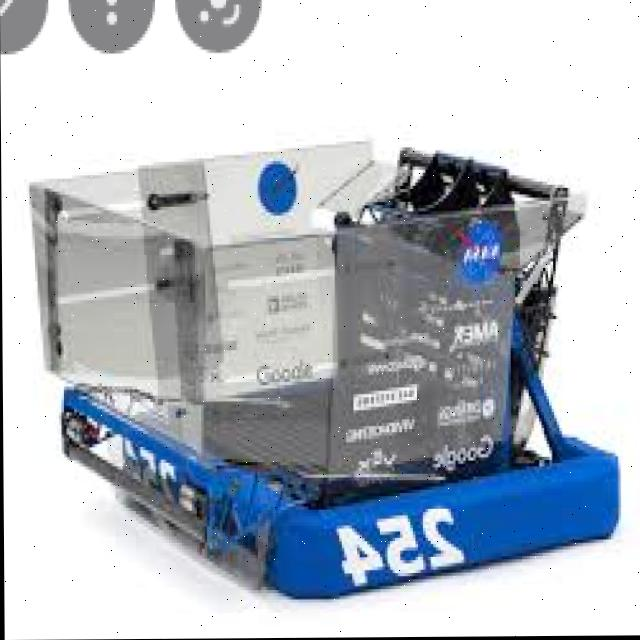robot: (34, 124, 620, 598)
